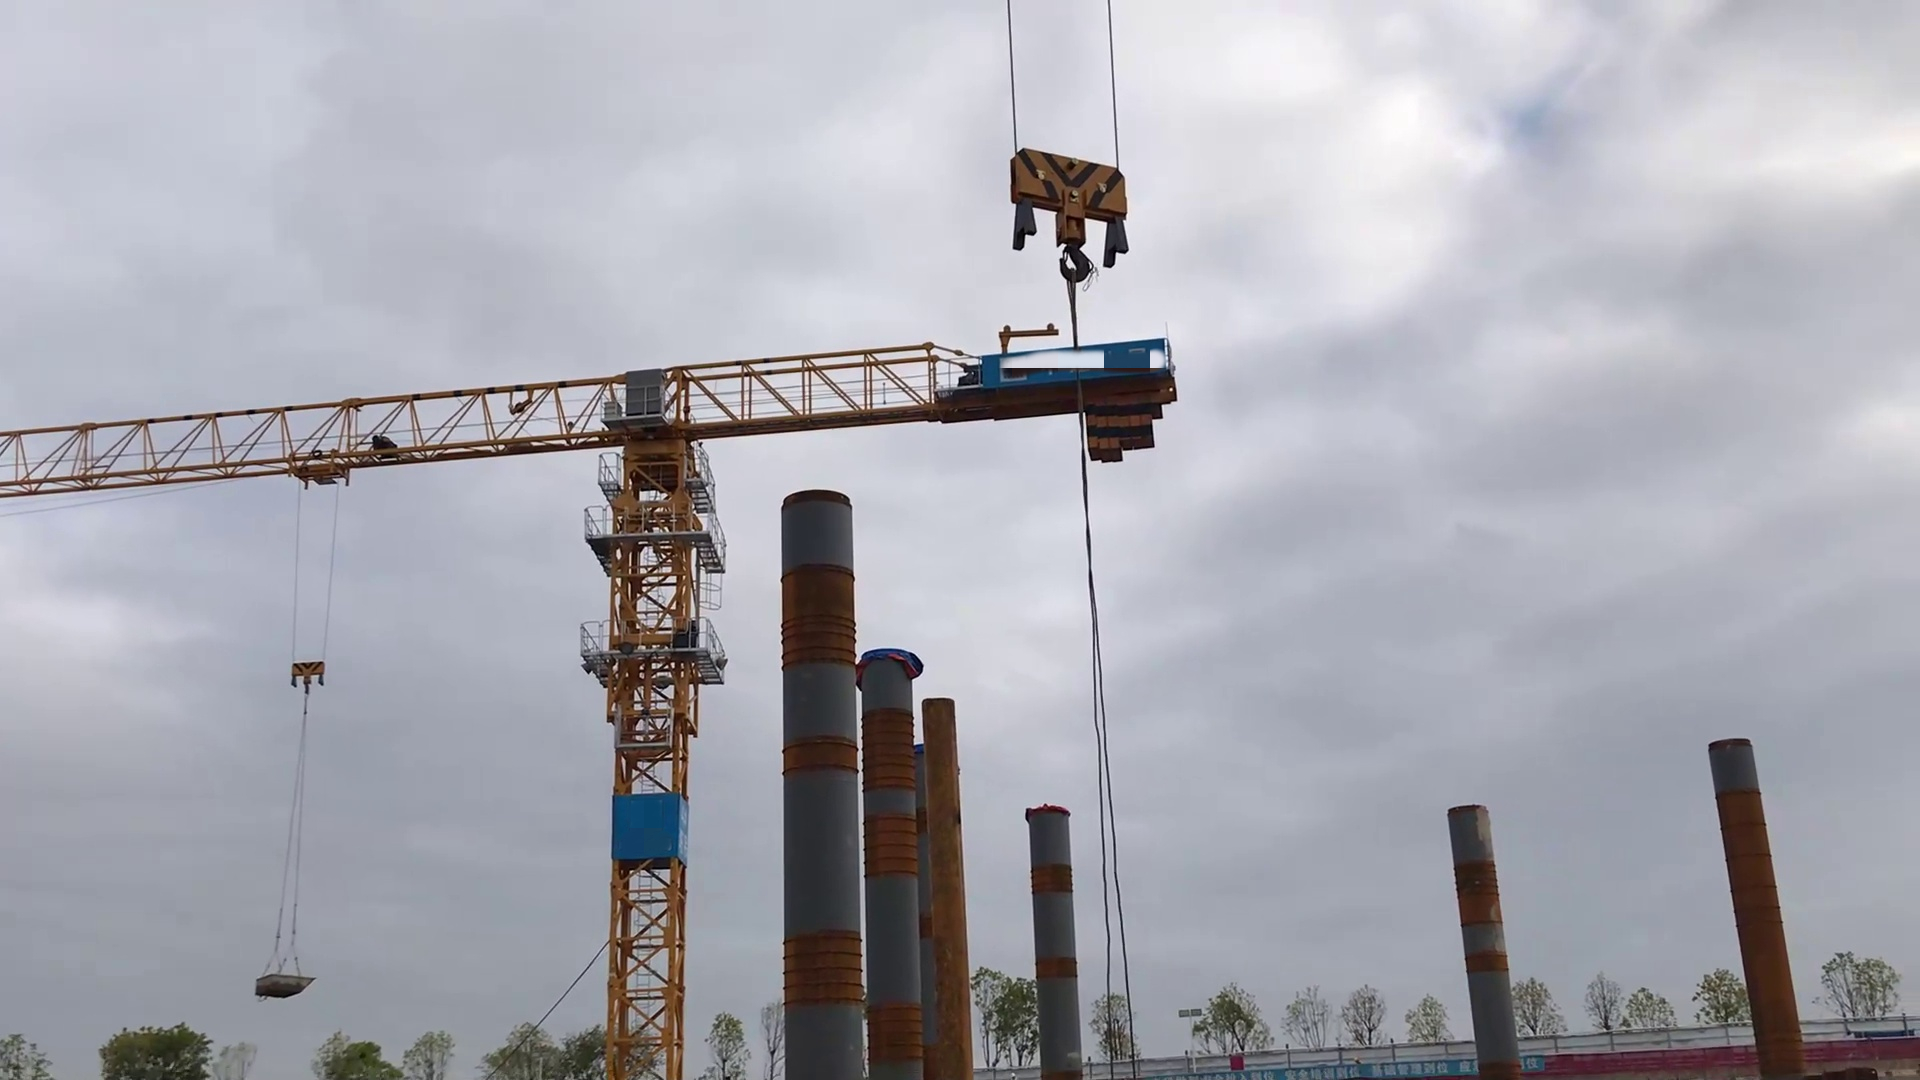hook: (1001, 142, 1138, 291), (287, 655, 328, 698)
slogan: (1178, 1055, 1544, 1080)
